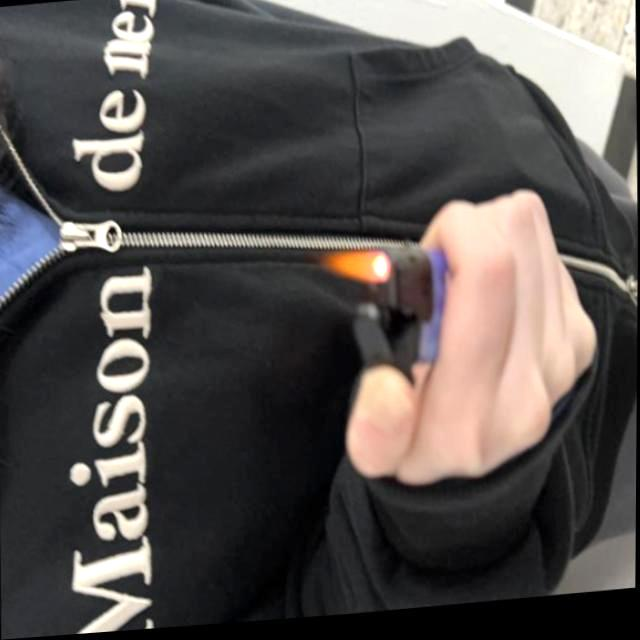fire: (314, 252, 392, 292)
